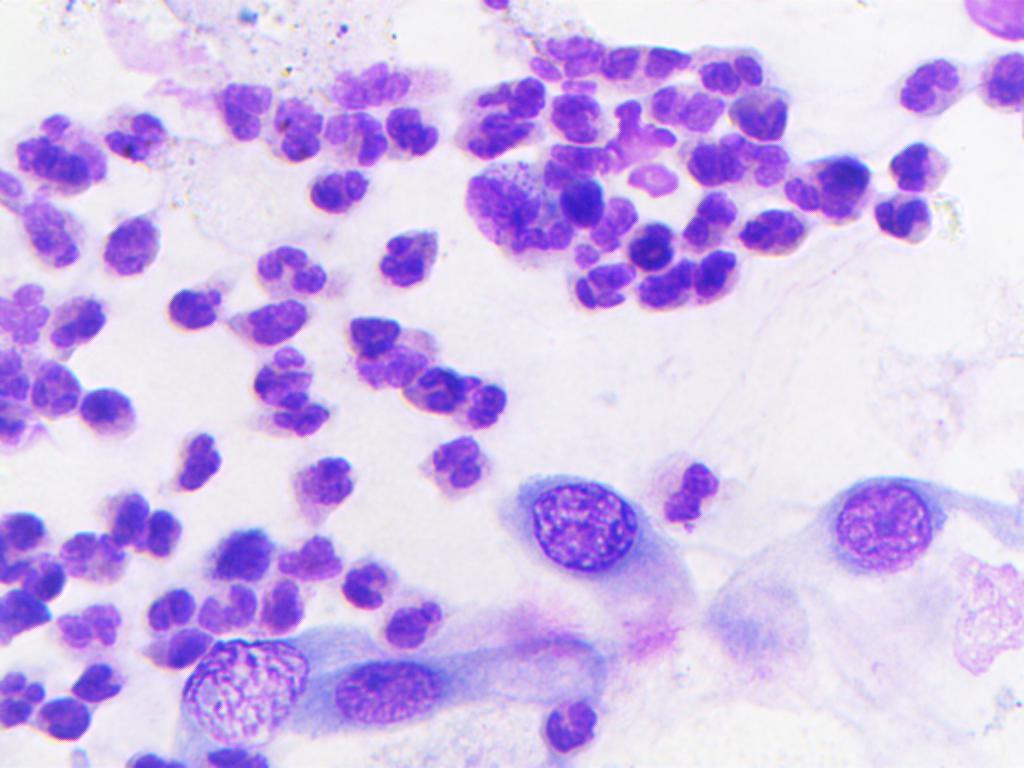epithelial: (167, 636, 307, 741), (821, 468, 949, 574), (514, 474, 642, 580), (314, 653, 463, 731)
neutrophil: (459, 168, 570, 261), (250, 338, 338, 447), (340, 313, 439, 408), (5, 108, 108, 199), (398, 357, 516, 435), (633, 248, 765, 312), (684, 130, 801, 200), (460, 70, 547, 164), (576, 98, 686, 172), (0, 197, 97, 280), (90, 482, 184, 563), (887, 40, 972, 129), (412, 432, 505, 513), (361, 216, 448, 301), (531, 679, 618, 764), (602, 27, 694, 99), (285, 438, 361, 525), (91, 91, 170, 174), (94, 199, 173, 282), (155, 274, 234, 357), (161, 427, 240, 510), (511, 24, 606, 93), (317, 48, 423, 109), (779, 154, 867, 225), (649, 453, 722, 538), (203, 66, 273, 151), (272, 516, 357, 585), (722, 77, 810, 141), (970, 33, 1024, 136), (267, 81, 328, 170), (50, 587, 126, 658), (244, 238, 332, 299), (293, 162, 379, 223), (340, 539, 404, 619), (42, 288, 115, 358), (877, 130, 954, 196), (866, 193, 943, 259), (732, 202, 809, 268), (236, 301, 323, 358), (688, 38, 767, 100), (54, 525, 134, 585), (76, 380, 155, 440), (372, 592, 451, 652), (193, 525, 273, 583), (649, 83, 729, 138), (1, 548, 74, 608), (556, 259, 635, 311), (378, 100, 443, 161), (30, 353, 80, 431), (557, 171, 613, 234), (197, 580, 260, 636), (63, 657, 134, 705), (30, 694, 93, 744), (549, 90, 606, 144), (0, 502, 50, 563), (625, 219, 680, 273), (263, 579, 319, 632), (138, 582, 200, 629), (0, 668, 51, 720), (626, 159, 680, 202)
